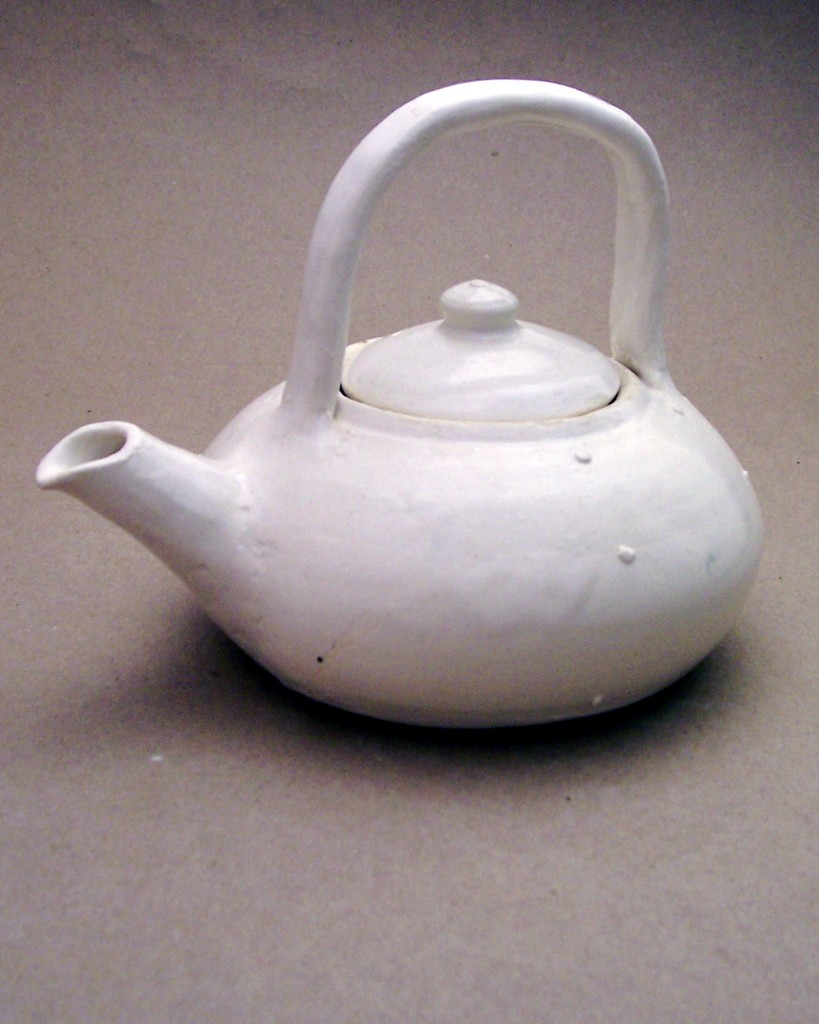teapot: (36, 78, 764, 728)
